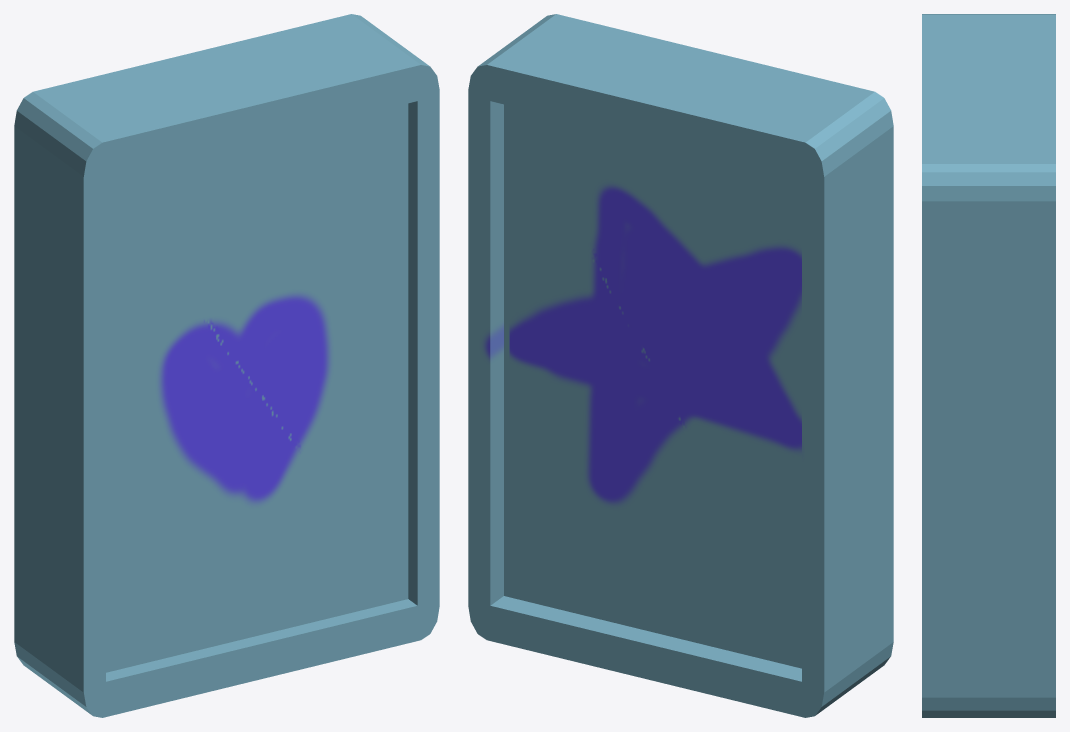
The model's file is domino.glb.
3 views of the same model, side by side, from view 1: azimuth 30°, elevation 25°; view 2: azimuth 150°, elevation 25°; view 3: azimuth 270°, elevation 25° (orthographic). The views are drawn at different scales.
Parts seen in each view (by area): view 1: Cube; view 2: Cube; view 3: Cube.
Boxes of the visible parts, left/top/right/bottom form: Cube: left=14, top=14, right=439, bottom=717; Cube: left=468, top=14, right=893, bottom=717; Cube: left=922, top=14, right=1055, bottom=717.
Bounding box in the file's own units: 0.588 × 0.9083 × 0.1991.
Materials: 1 (1 with a texture image).
